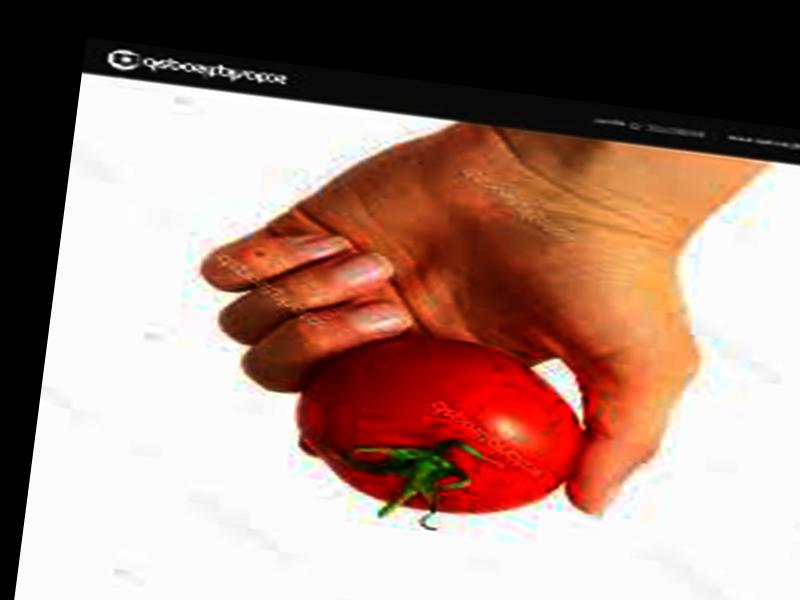Tomato: (293, 321, 591, 530)
